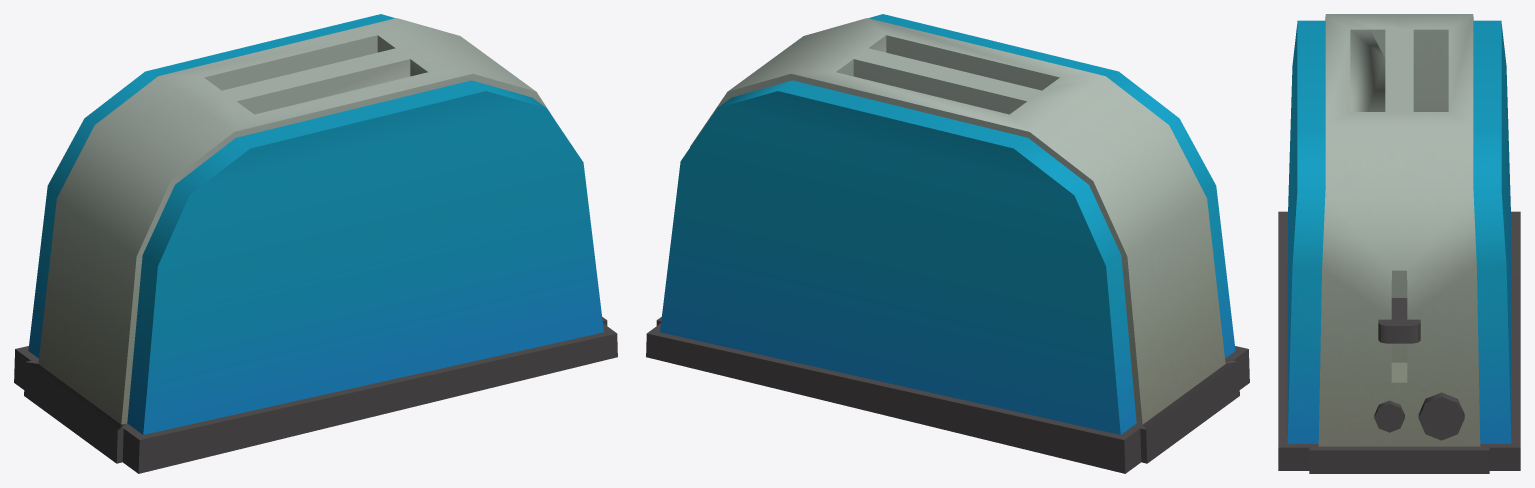
The model's file is SM_Toaster_06.fbx.
3 views of the same model, side by side, from view 1: azimuth 30°, elevation 25°; view 2: azimuth 150°, elevation 25°; view 3: azimuth 270°, elevation 25° (orthographic). The views are drawn at different scales.
Parts seen in each view (by area): view 1: SM_Toaster_06; view 2: SM_Toaster_06; view 3: SM_Toaster_06.
Boxes of the visible parts, bbox=[...] form: SM_Toaster_06: bbox=[14, 14, 617, 473]; SM_Toaster_06: bbox=[646, 14, 1249, 473]; SM_Toaster_06: bbox=[1278, 14, 1520, 473].
Bounding box in the file's own units: 41.15 × 23.47 × 18.
